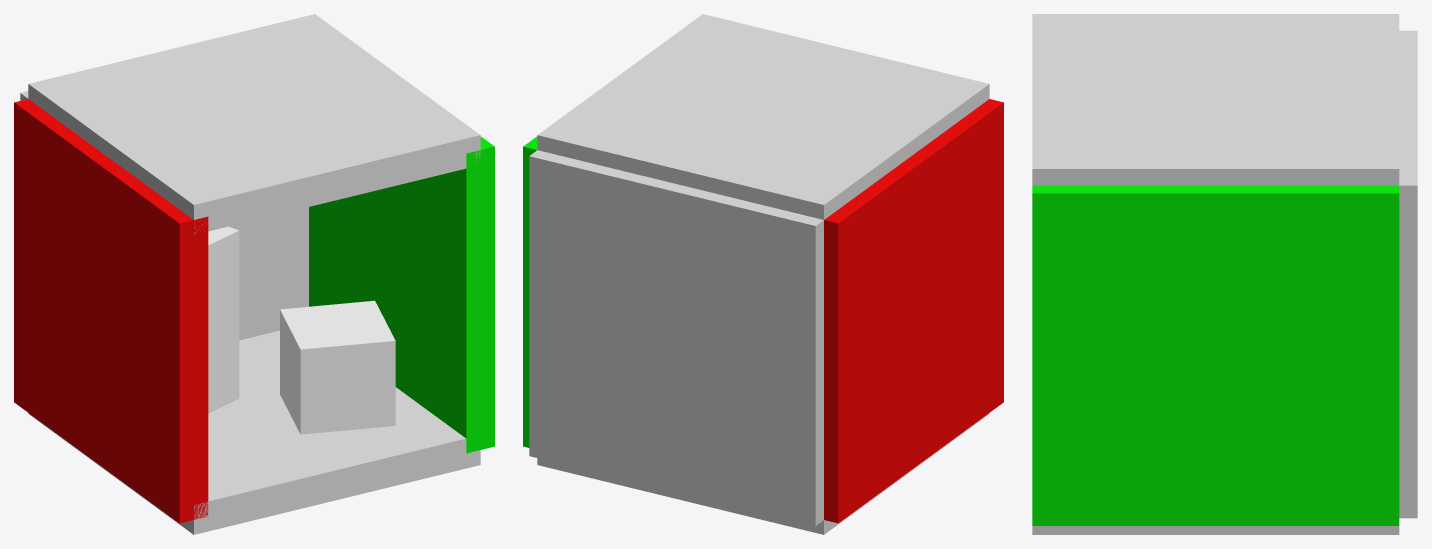
File: cornell_boxes_no_roughness.glb
The picture shows the model from 3 angles, left to right: view 1: azimuth 30°, elevation 25°; view 2: azimuth 150°, elevation 25°; view 3: azimuth 270°, elevation 25°; orthographic projection. The views are drawn at different scales.
Parts seen in each view (by area): view 1: Cube.001, Cube.002, Cube.003, Cube.004, Cube.006, Cube, Cube.007; view 2: Cube, Cube.001, Cube.002, Cube.004, Cube.003; view 3: Cube.003, Cube.002, Cube, Cube.004.
Part boxes in pixels (<box>): Cube.001: <box>14,99,208,523</box>; Cube.002: <box>28,14,480,234</box>; Cube.003: <box>309,136,494,453</box>; Cube.004: <box>28,330,480,534</box>; Cube.006: <box>280,300,395,434</box>; Cube: <box>20,91,308,340</box>; Cube.007: <box>208,226,239,413</box>; Cube: <box>529,150,823,525</box>; Cube.001: <box>824,99,1003,523</box>; Cube.002: <box>537,14,989,219</box>; Cube.004: <box>537,413,989,534</box>; Cube.003: <box>523,136,537,447</box>; Cube.003: <box>1032,185,1399,525</box>; Cube.002: <box>1032,14,1399,185</box>; Cube: <box>1399,30,1417,518</box>; Cube.004: <box>1032,526,1399,534</box>.
Size of the model in its own units: 2.2 by 2.2 by 2.1.
